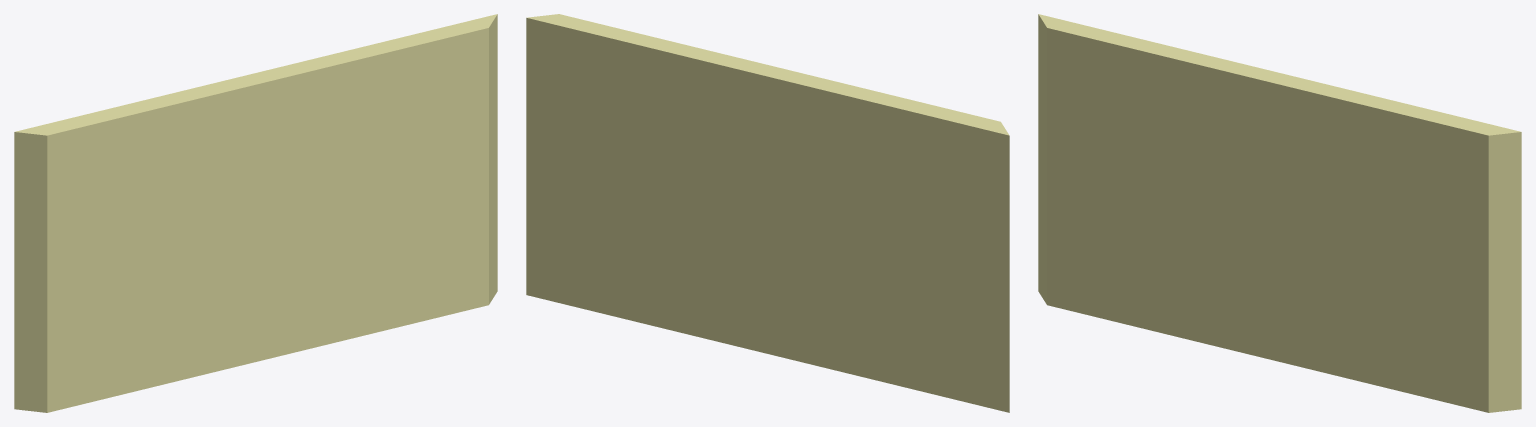
The model's file is Walls and Floors with Doors.fbx_CWall_Outer_Outer.fbx.
3 views of the same model, side by side, from view 1: azimuth 30°, elevation 25°; view 2: azimuth 150°, elevation 25°; view 3: azimuth 330°, elevation 25° (orthographic).
Parts seen in each view (by area): view 1: CWall Outer Outer; view 2: CWall Outer Outer; view 3: CWall Outer Outer.
Part boxes in pixels (x1,y1,x2,y2): CWall Outer Outer: [14, 14, 497, 412]; CWall Outer Outer: [526, 14, 1009, 412]; CWall Outer Outer: [1038, 14, 1521, 412].
Size of the model in its own units: 1641 by 900 by 70.71.
